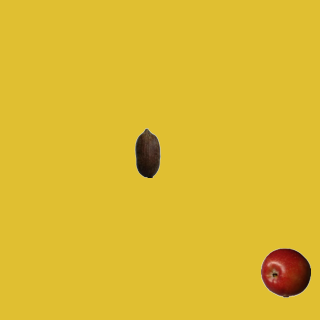Apple Braeburn: (260, 247, 310, 297)
Nut Pecan: (122, 127, 172, 177)
